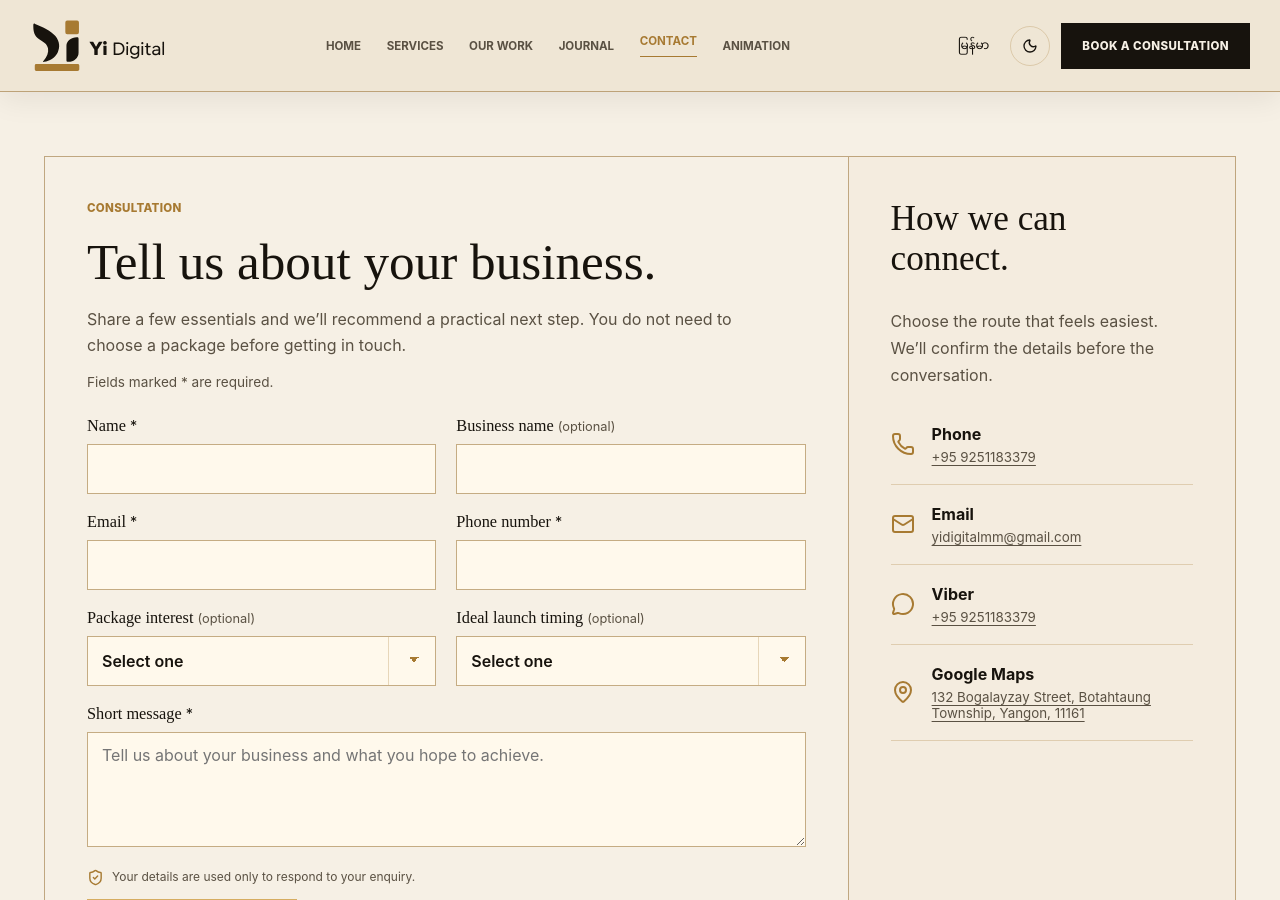
Test case: contact submission UI › confirms the enquiry even when analytics is unavailable (() => {           throw new Error("Analytics unavailable");         })
Type "Test Customer" into the field labelled "Name" at [262, 469], box [87,444,436,494]
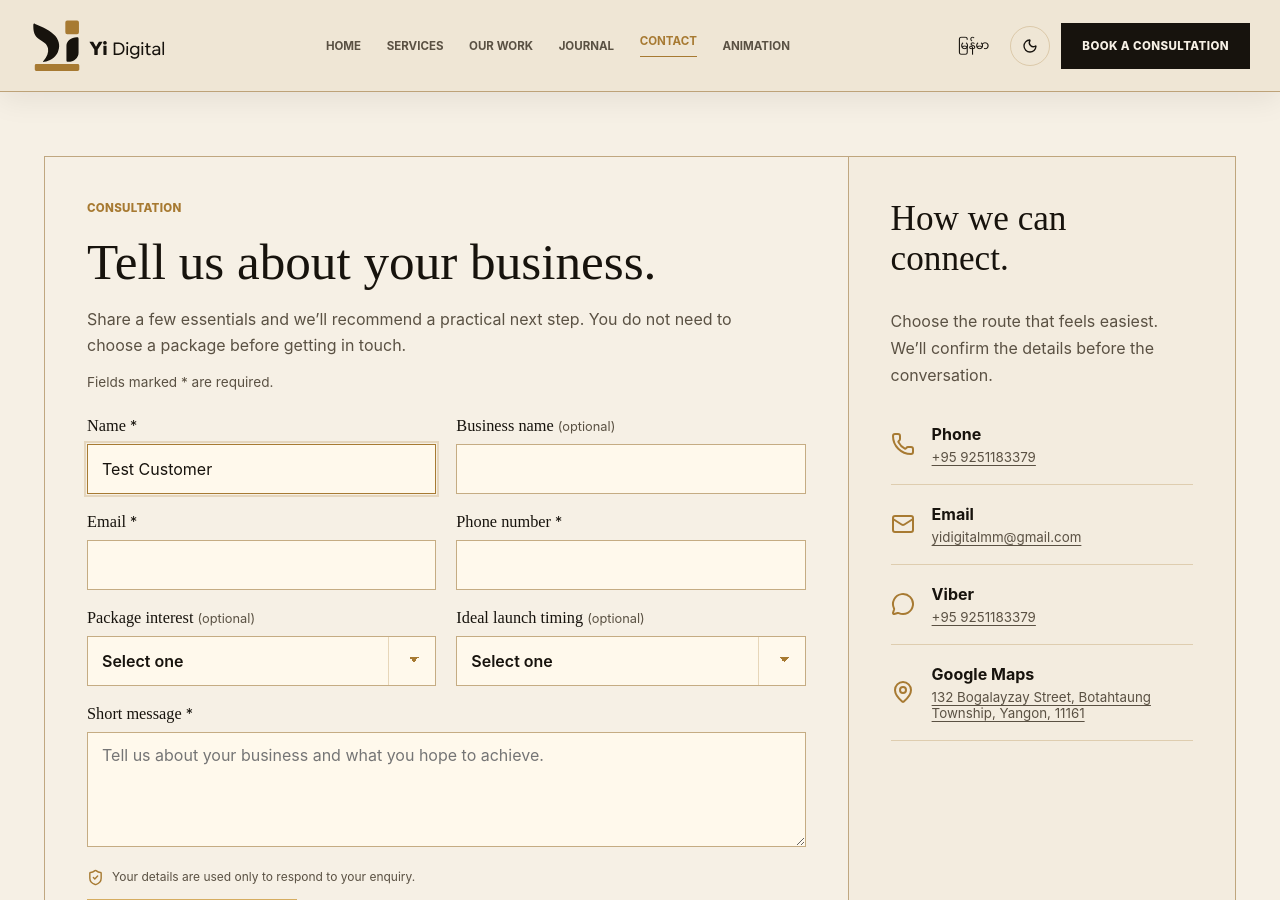
Type "customer@example.com" into the field labelled "Email" at [262, 565], box [87,540,436,590]
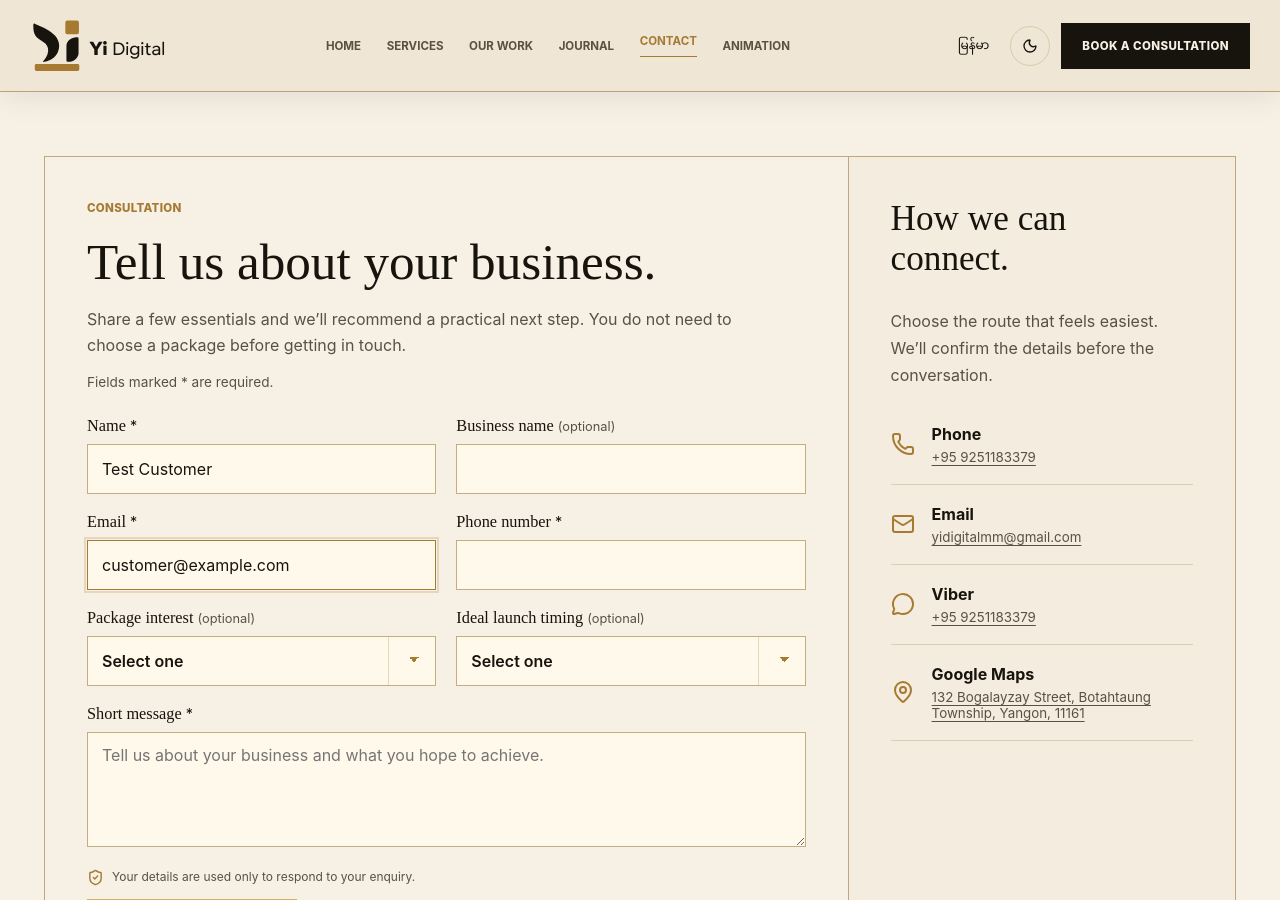
Type "+959123456789" into the field labelled "Phone number" at [631, 565], box [456,540,806,590]
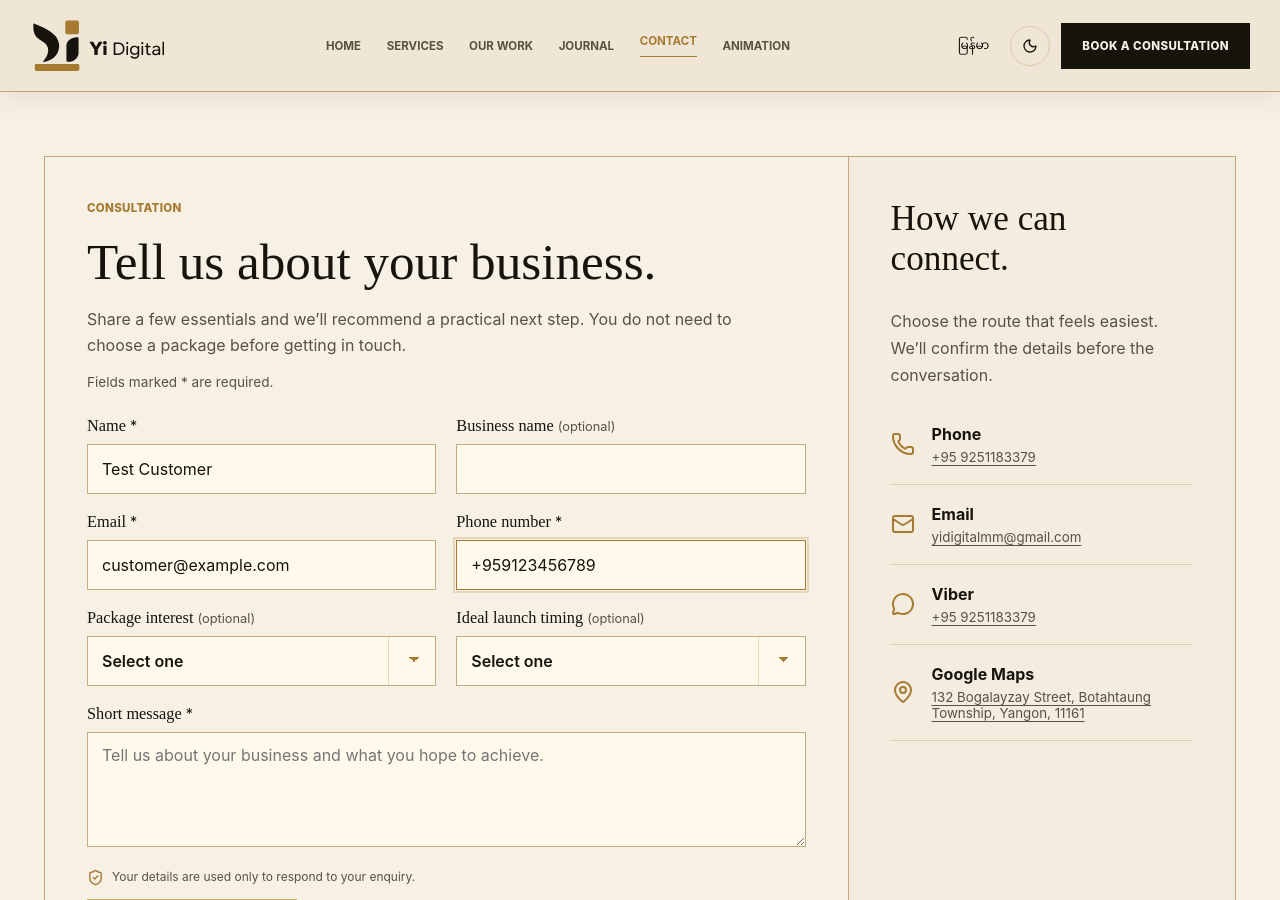
Type "Please help with my website." into the text box labelled "Short message" at [446, 790], box [87,732,806,847]
(page scrolled)
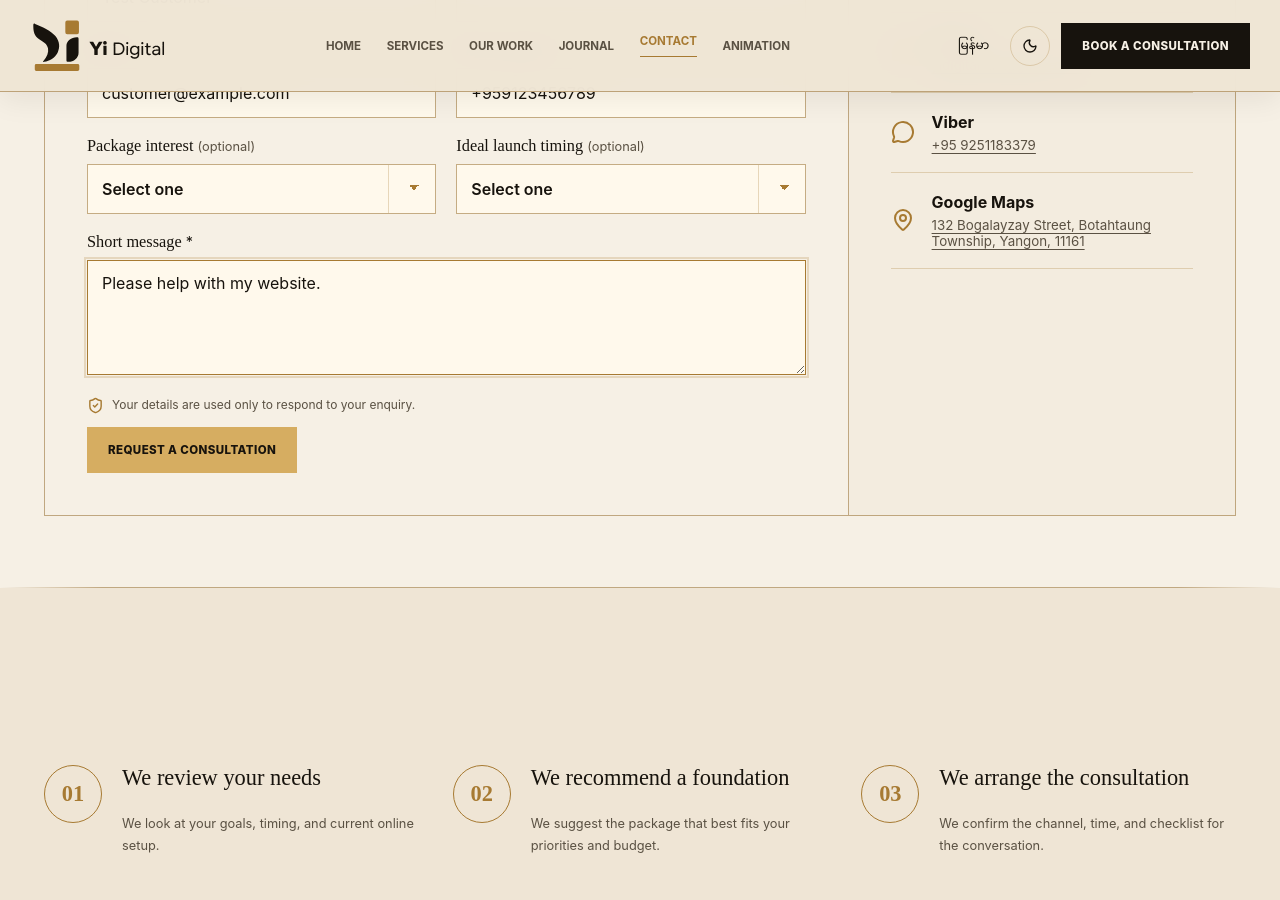
Click the button "Request a consultation" at [192, 450], box [87,427,297,473]
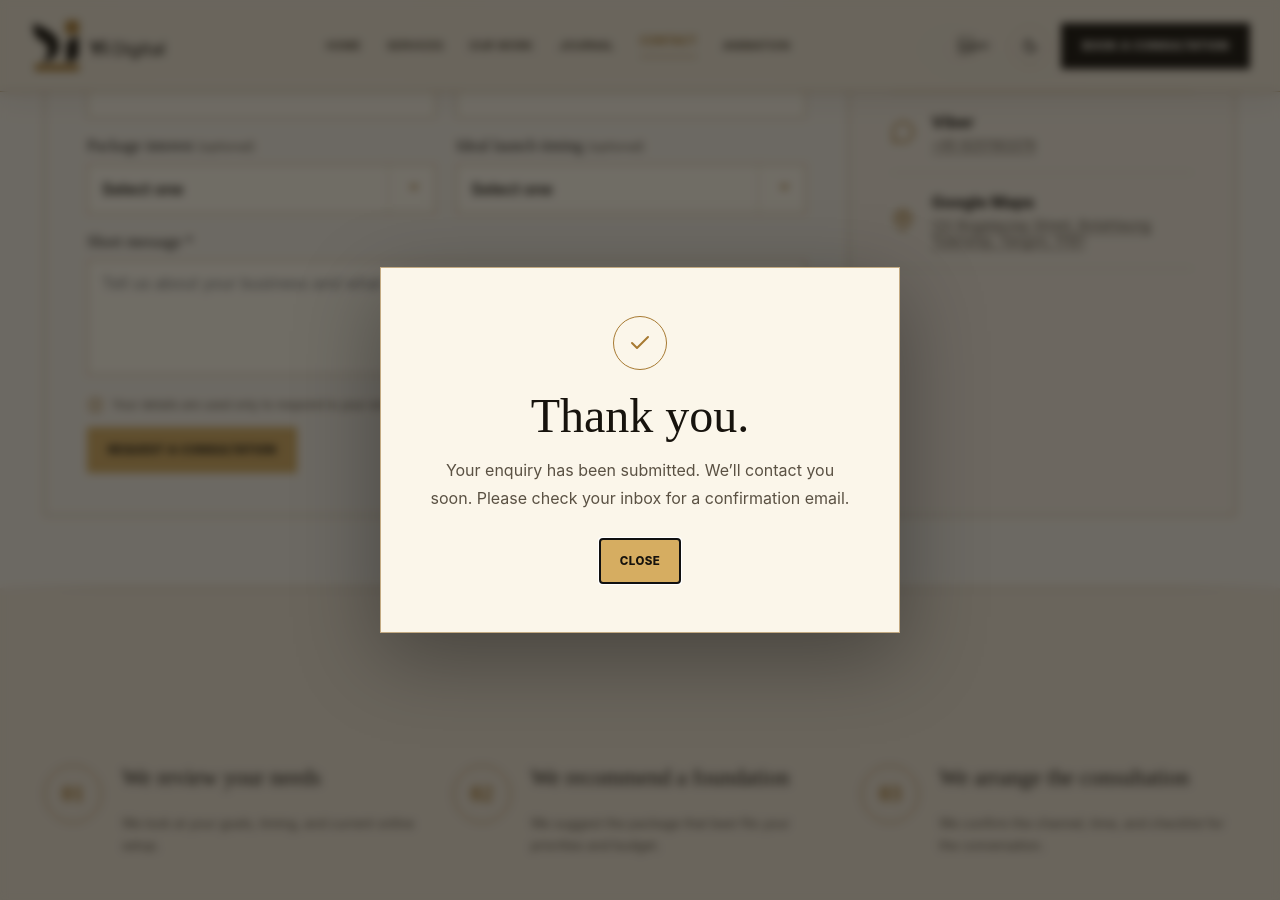
Expected: the dialog shows "Your enquiry has been submitted", [430,460,849,508]
